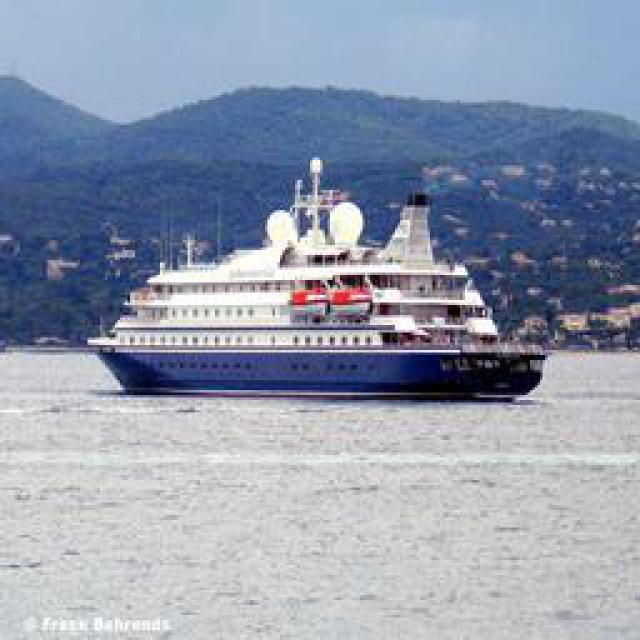Ship: (88, 161, 556, 406)
